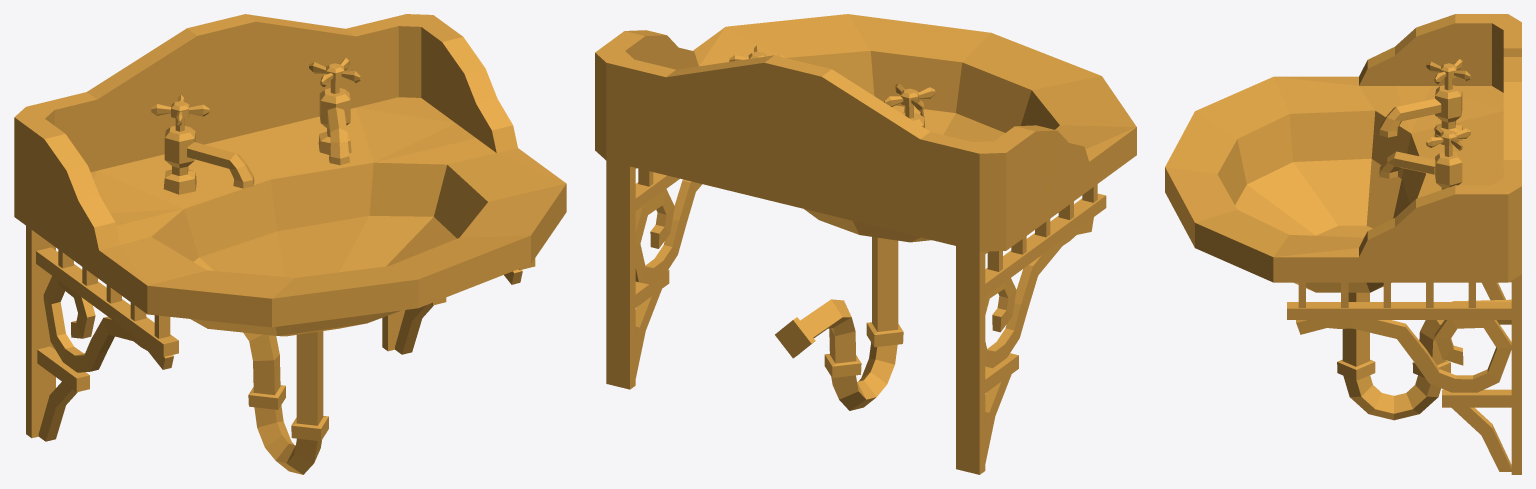
Rendered from SM_Sink_Victorian_A.fbx.
3 renders of one model, left to right at view 1: azimuth 30°, elevation 25°; view 2: azimuth 150°, elevation 25°; view 3: azimuth 270°, elevation 25°, orthographic. The views are drawn at different scales.
Parts seen in each view (by area): view 1: sink-victorian-a; view 2: sink-victorian-a; view 3: sink-victorian-a.
Boxes of the visible parts, bbox=[...] form: sink-victorian-a: bbox=[14, 14, 566, 474]; sink-victorian-a: bbox=[595, 14, 1136, 474]; sink-victorian-a: bbox=[1165, 14, 1521, 474].
Size of the model in its own units: 0.5985 by 0.5423 by 0.5002.
